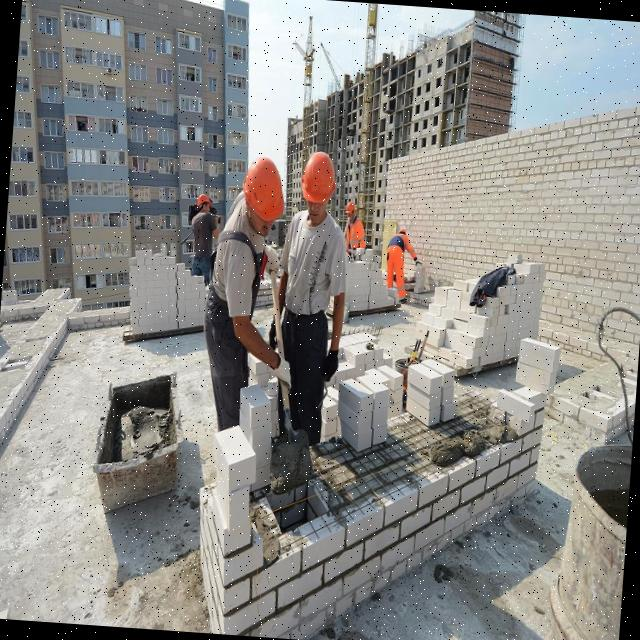Helmet: (241, 157, 288, 225), (299, 151, 341, 211), (197, 194, 214, 210), (346, 203, 357, 216)
Jacket: (388, 233, 408, 273), (346, 216, 364, 248)
NoJacket: (216, 208, 263, 343), (289, 207, 335, 326), (193, 210, 215, 258)
